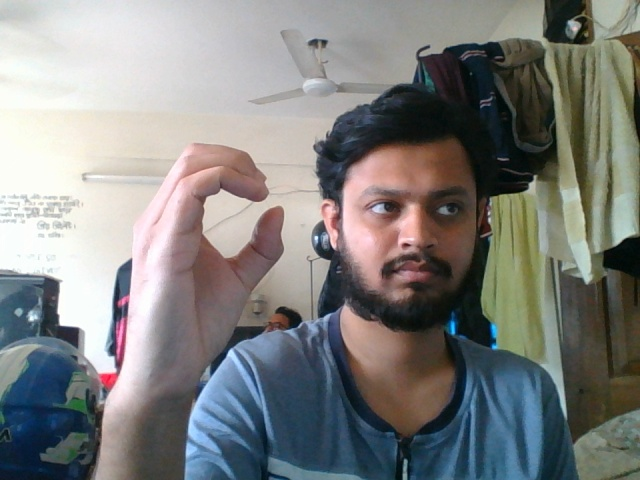ka: (114, 139, 296, 392)
